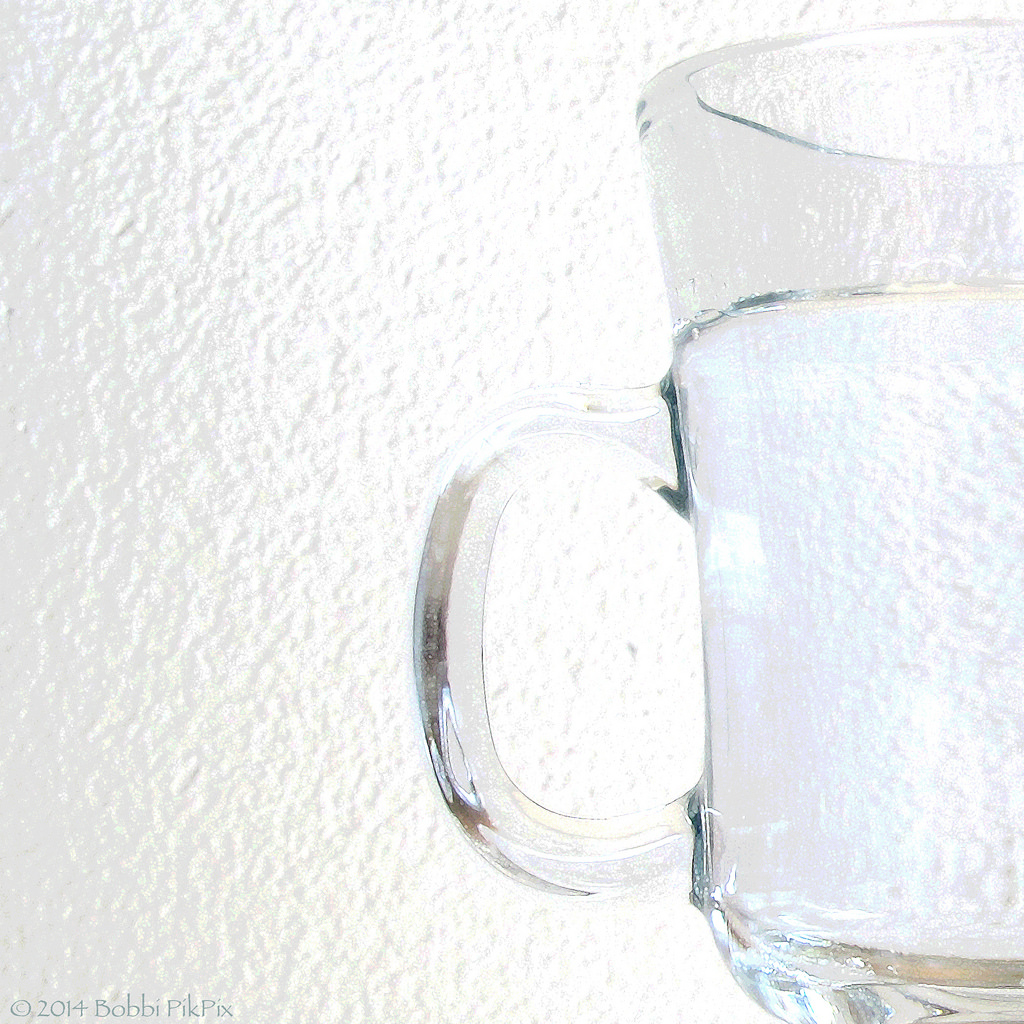glass of water: (391, 1, 1024, 1024)
